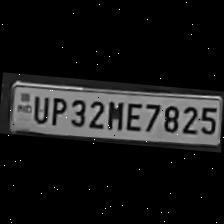2: (178, 100, 200, 134), (86, 96, 106, 129)
3: (66, 94, 88, 128)
5: (196, 101, 218, 136)
7: (140, 100, 160, 132)
8: (159, 100, 181, 134)
E: (122, 98, 144, 132)
M: (103, 96, 125, 130)
P: (46, 93, 68, 125)
U: (28, 92, 50, 123)
